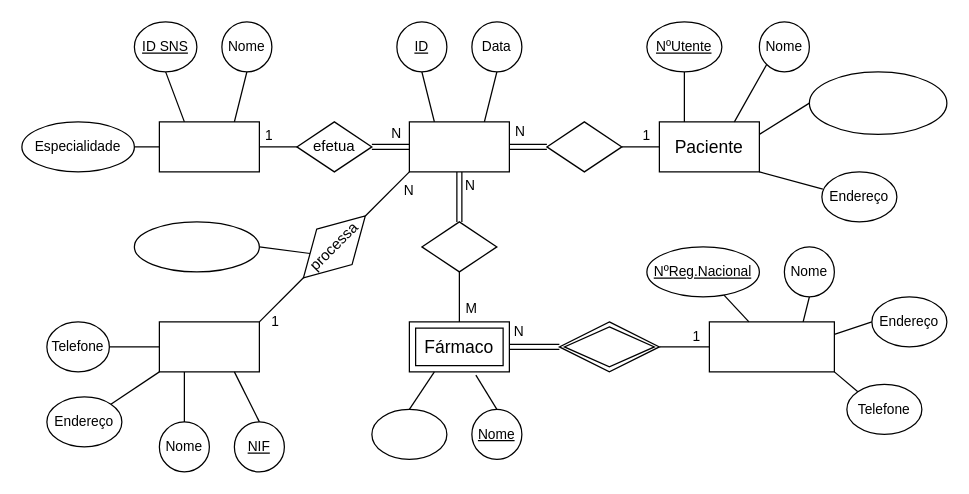
The diagram is 969 pixels wide and 494 high, and some of its shapes have lost their labels. Each missing label, with the centre of its shape:
"contem" goes at (459,246).
"Data de Nascimento" goes at (877,102).
"Data de Processamento" goes at (196,246).
"Farmacêutica" goes at (771,346).
"Farmácia" goes at (208,346).
"Formula" goes at (409,433).
"Médico" goes at (208,146).
"Prescrição" goes at (458,146).
"Produz" goes at (608,346).
"tem" goes at (584,146).
